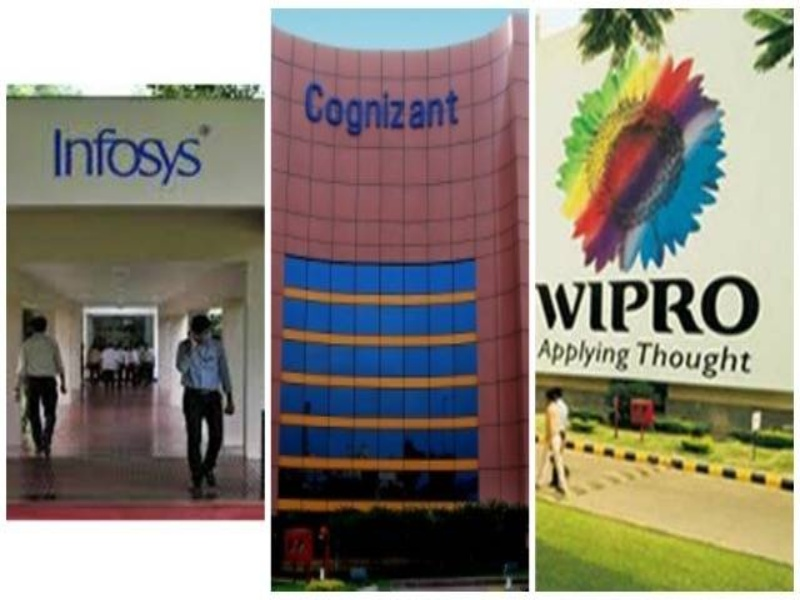wipro: (553, 46, 741, 275)
